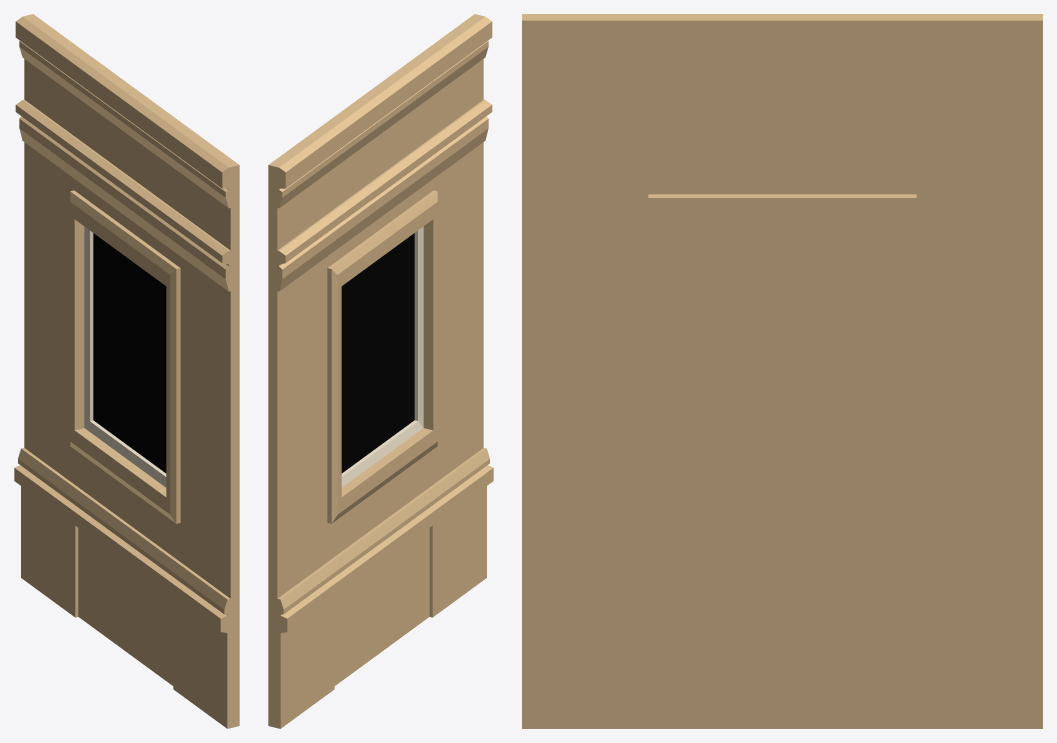
File: 5_WallHole_1_A.fbx
3 renders of one model, left to right at view 1: azimuth 30°, elevation 25°; view 2: azimuth 150°, elevation 25°; view 3: azimuth 270°, elevation 25°, orthographic. The views are drawn at different scales.
Visible parts, largest first — view 1: WallHole_1; view 2: WallHole_1; view 3: WallHole_1.
Part boxes in pixels (bbox=[...]): WallHole_1: bbox=[14, 14, 239, 728]; WallHole_1: bbox=[268, 14, 493, 728]; WallHole_1: bbox=[522, 14, 1042, 728].
Bounding box in the file's own units: 13.96 × 200 × 300.
